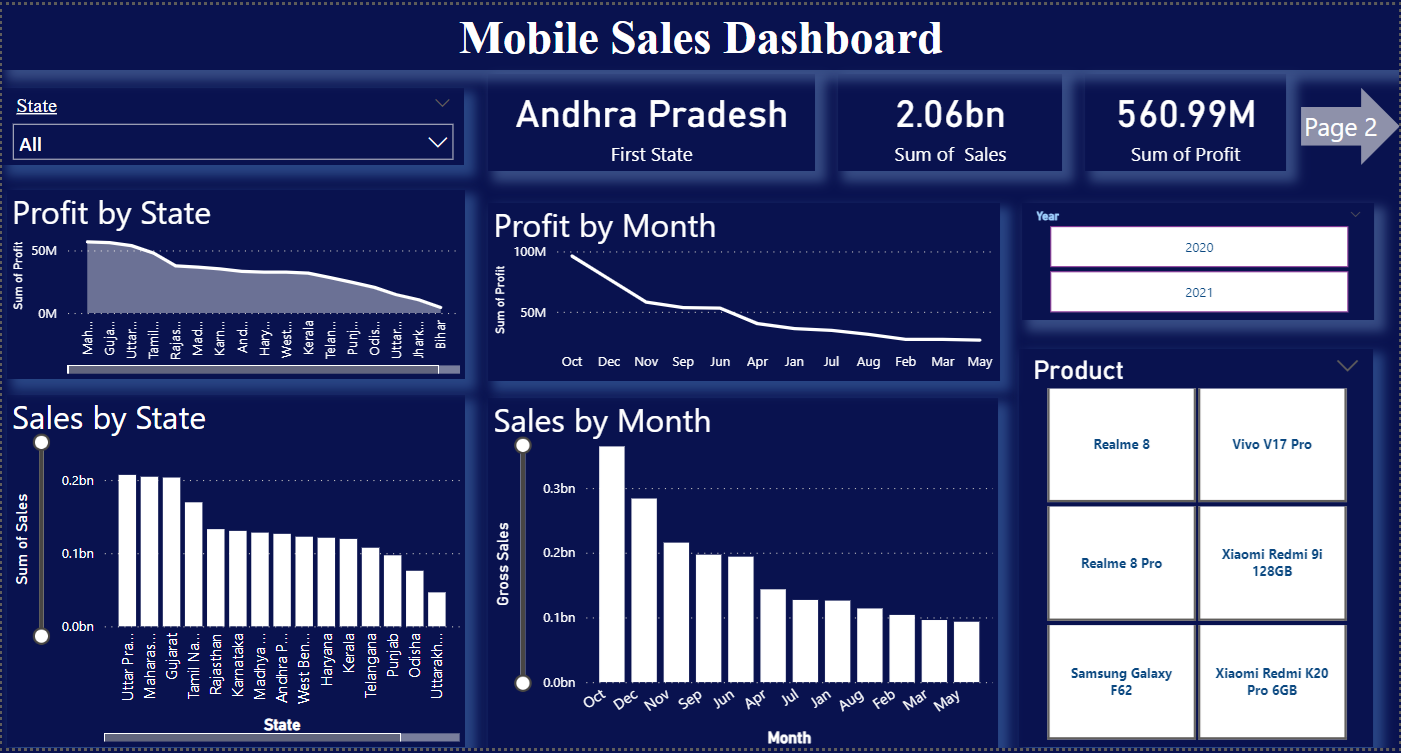

The page's visual inventory and layout, read from the dashboard file:
{"tool":"powerbi","page":{"name":"Page 1","canvas":[1280,720],"ordinal":0},"visuals":[{"type":"slicer","fields":{"Values":["Table6.State"]},"box":[27.5,76,368.9,71.2],"z":0},{"type":"lineStackedColumnComboChart","title":"Sales by State","fields":{"Category":["Table6.State"],"Y":["Sum(Table6. Sales)"]},"box":[0,377,423.9,323.6],"z":1000},{"type":"columnChart","title":"Gross Sales by Month","fields":{"Category":["Table6.Month Name"],"Y":["Sum(Table6. Sales)"]},"box":[445.1,376.7,468.4,322.9],"z":2000},{"type":"shape","box":[1189.2,76,90.6,71.2],"z":3000},{"type":"textbox","box":[0,0,1280,59.6],"z":4000},{"type":"lineChart","title":"Profit by Month","fields":{"Category":["Table6.Month Name"],"Y":["Sum(Table6.Profit)"]},"box":[445.1,170.2,468.4,173.1],"z":5000},{"type":"areaChart","title":"Profit by State","fields":{"Category":["Table6.State"],"Y":["Sum(Table6.Profit)"]},"box":[4.4,168.7,418.9,173.1],"z":6000},{"type":"card","fields":{"Values":["Sum(Table6. Sales)"]},"box":[770.9,64,206.5,82.9],"z":7000},{"type":"card","fields":{"Values":["Sum(Table6.Profit)"]},"box":[1001.5,64.7,182.8,82.5],"z":8000},{"type":"slicer","fields":{"Values":["Table6.Year"]},"box":[933.8,174.5,322.9,97.5],"z":9000},{"type":"card","fields":{"Values":["Min(Table6.State)"]},"box":[445.1,64,298.2,82.9],"z":10000},{"type":"slicer","fields":{"Values":["Table6.Product"]},"box":[933.8,343.3,322.9,357.8],"z":11000}]}

Visuals, with their boxes on the page's 1280x720 design canvas (x1, y1, x2, y2). These are canvas units, not pixel positions in the 1401x753 screenshot, which may show the page scaled, cropped or inside an application window:
slicer - Table6.State: crop(28, 76, 396, 147)
"Sales by State" lineStackedColumnComboChart: crop(0, 377, 424, 701)
"Gross Sales by Month" columnChart: crop(445, 377, 914, 700)
shape: crop(1189, 76, 1280, 147)
textbox: crop(0, 0, 1280, 60)
"Profit by Month" lineChart: crop(445, 170, 914, 343)
"Profit by State" areaChart: crop(4, 169, 423, 342)
card - Sum(Table6. Sales): crop(771, 64, 977, 147)
card - Sum(Table6.Profit): crop(1002, 65, 1184, 147)
slicer - Table6.Year: crop(934, 174, 1257, 272)
card - Min(Table6.State): crop(445, 64, 743, 147)
slicer - Table6.Product: crop(934, 343, 1257, 701)
